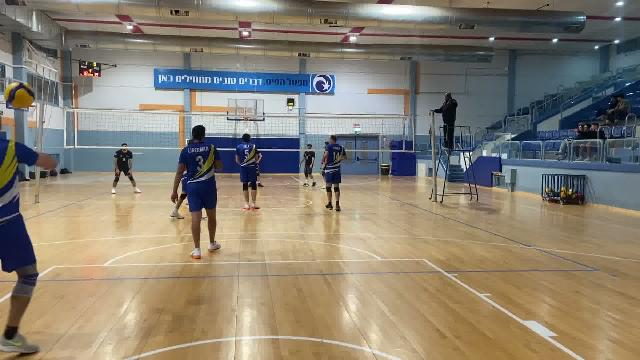ball: (4, 77, 34, 121)
